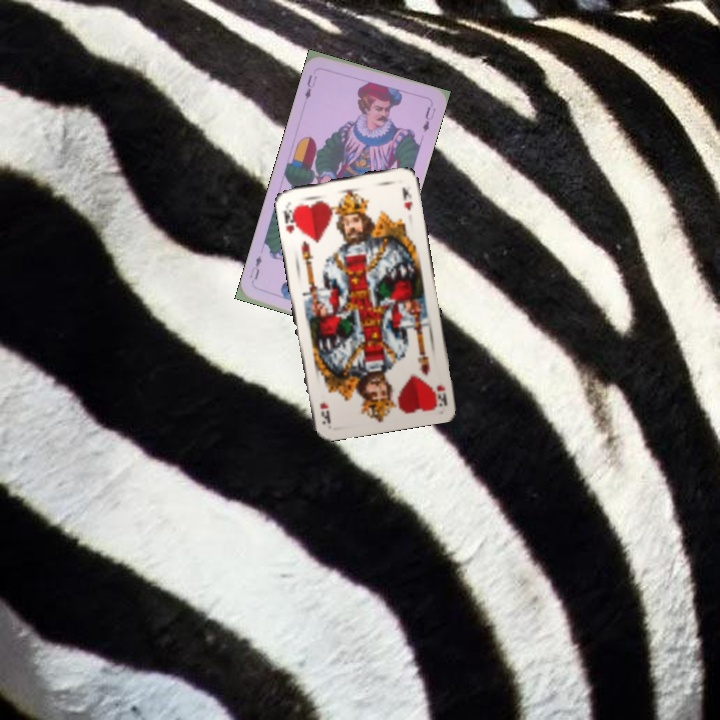EU: (300, 70, 320, 102)
HK: (279, 199, 302, 237), (431, 381, 450, 407)
